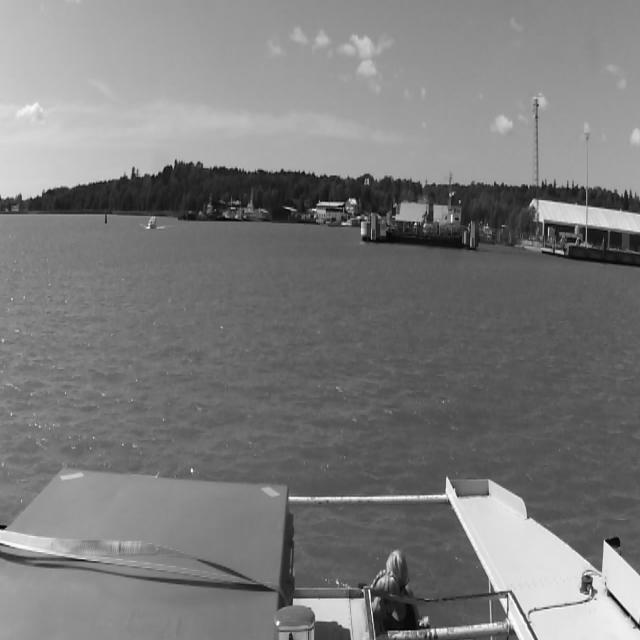buoy: (104, 212, 106, 226)
ship: (244, 190, 268, 222), (198, 196, 216, 220), (145, 213, 157, 230), (183, 210, 195, 218)
